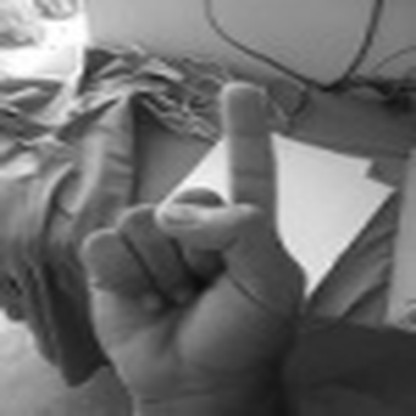d: (81, 75, 308, 409)
